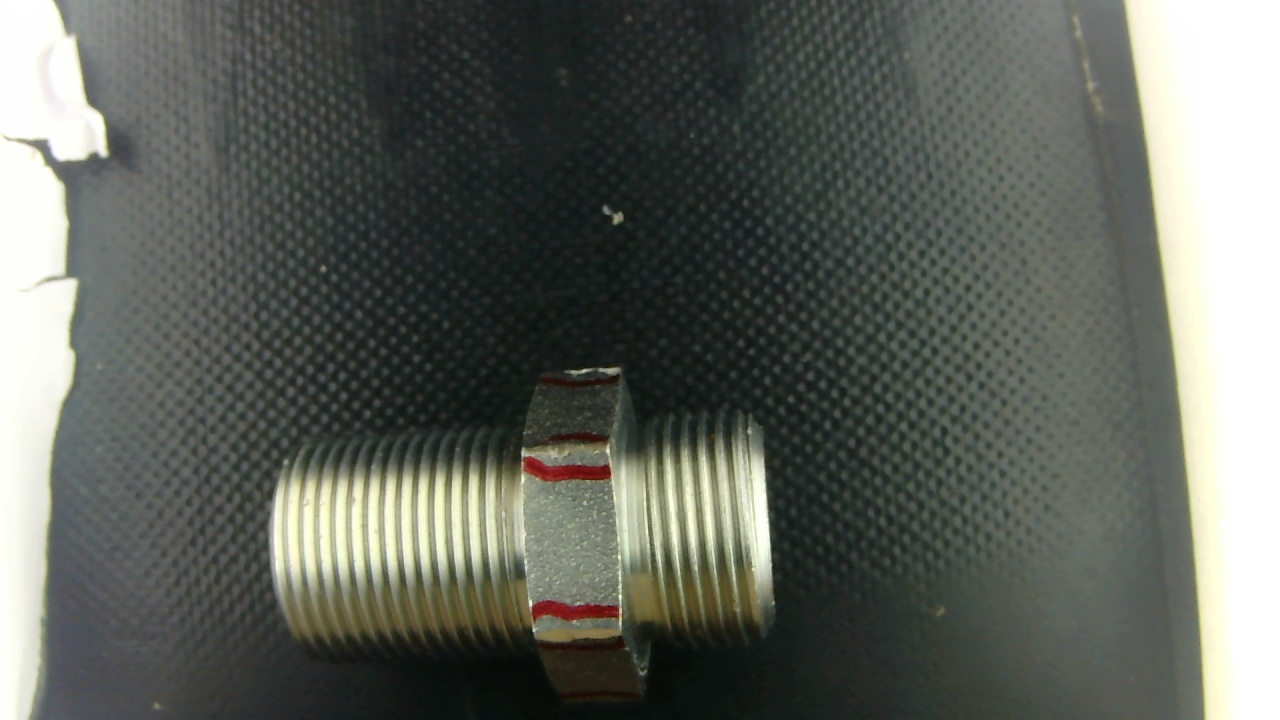Hex_damage: (530, 618, 626, 654)
